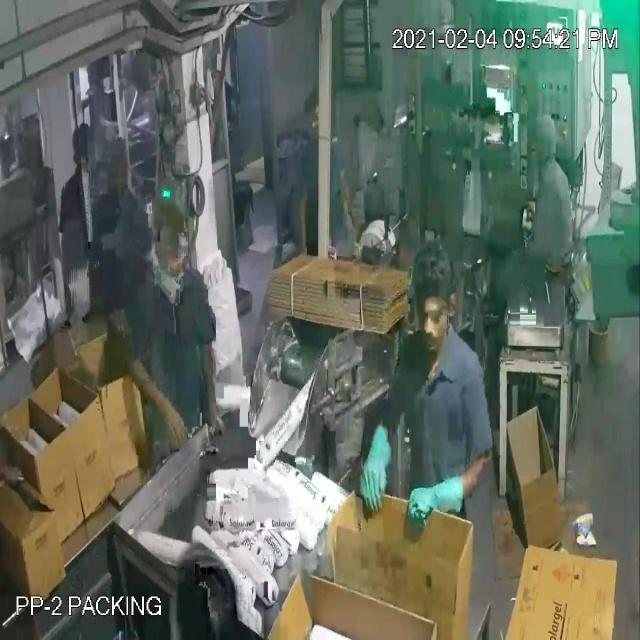Guantes: (404, 456, 473, 548), (355, 426, 402, 526)
Sin_guantes: (124, 339, 189, 460), (189, 329, 228, 443), (292, 178, 320, 272)
